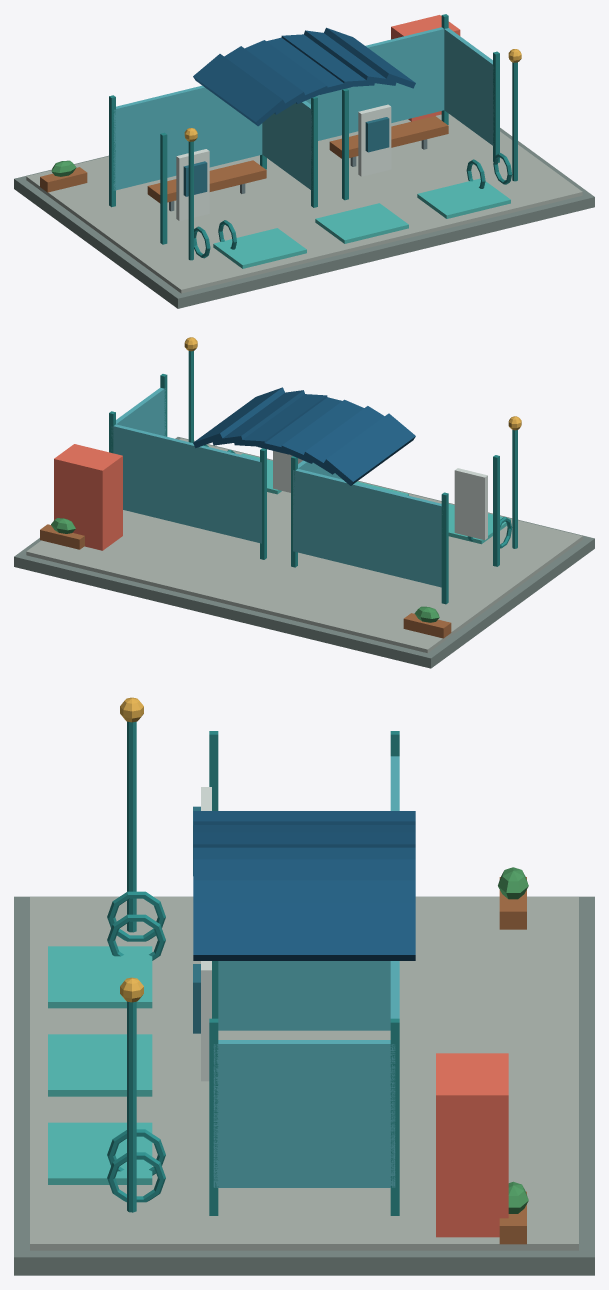
The model's file is bus_stop_lv4.glb.
3 views of the same model, one above another, from view 1: azimuth 30°, elevation 25°; view 2: azimuth 150°, elevation 25°; view 3: azimuth 270°, elevation 25° (orthographic). The views are drawn at different scales.
Parts seen in each view (by area): view 1: concrete, glass, solar, pavement, teal, turquoise, wood, white, glassDark, coral; view 2: concrete, glass, solar, pavement, coral, teal, white, wood, turquoise, green; view 3: concrete, glass, solar, pavement, turquoise, coral, teal, wood, white, green, gold.
Boxes of the visible parts, x1=… form: concrete: x1=26, y1=114, x2=582, y2=293; glass: x1=113, y1=27, x2=494, y2=190; solar: x1=193, y1=27, x2=415, y2=126; pavement: x1=14, y1=128, x2=594, y2=308; teal: x1=109, y1=14, x2=517, y2=260; turquoise: x1=213, y1=178, x2=510, y2=268; wood: x1=40, y1=116, x2=448, y2=203; white: x1=176, y1=104, x2=391, y2=220; glassDark: x1=183, y1=117, x2=389, y2=196; coral: x1=391, y1=15, x2=460, y2=121; concrete: x1=26, y1=438, x2=582, y2=653; glass: x1=111, y1=387, x2=443, y2=587; solar: x1=193, y1=387, x2=415, y2=485; pavement: x1=14, y1=437, x2=594, y2=668; coral: x1=54, y1=444, x2=122, y2=550; teal: x1=109, y1=351, x2=517, y2=604; white: x1=273, y1=451, x2=487, y2=540; wood: x1=40, y1=524, x2=451, y2=638; turquoise: x1=241, y1=453, x2=510, y2=544; green: x1=51, y1=518, x2=439, y2=622; concrete: x1=30, y1=897, x2=578, y2=1250; glass: x1=213, y1=756, x2=399, y2=1187; solar: x1=193, y1=811, x2=415, y2=960; pavement: x1=14, y1=896, x2=594, y2=1275; turquoise: x1=48, y1=946, x2=152, y2=1184; coral: x1=436, y1=1053, x2=508, y2=1237; teal: x1=107, y1=721, x2=399, y2=1215; wood: x1=499, y1=877, x2=526, y2=1244; white: x1=201, y1=787, x2=211, y2=1081; green: x1=498, y1=867, x2=528, y2=1213; gold: x1=120, y1=697, x2=143, y2=1002.
Bounding box in the file's own units: 9.4 × 3.12 × 6.4.
